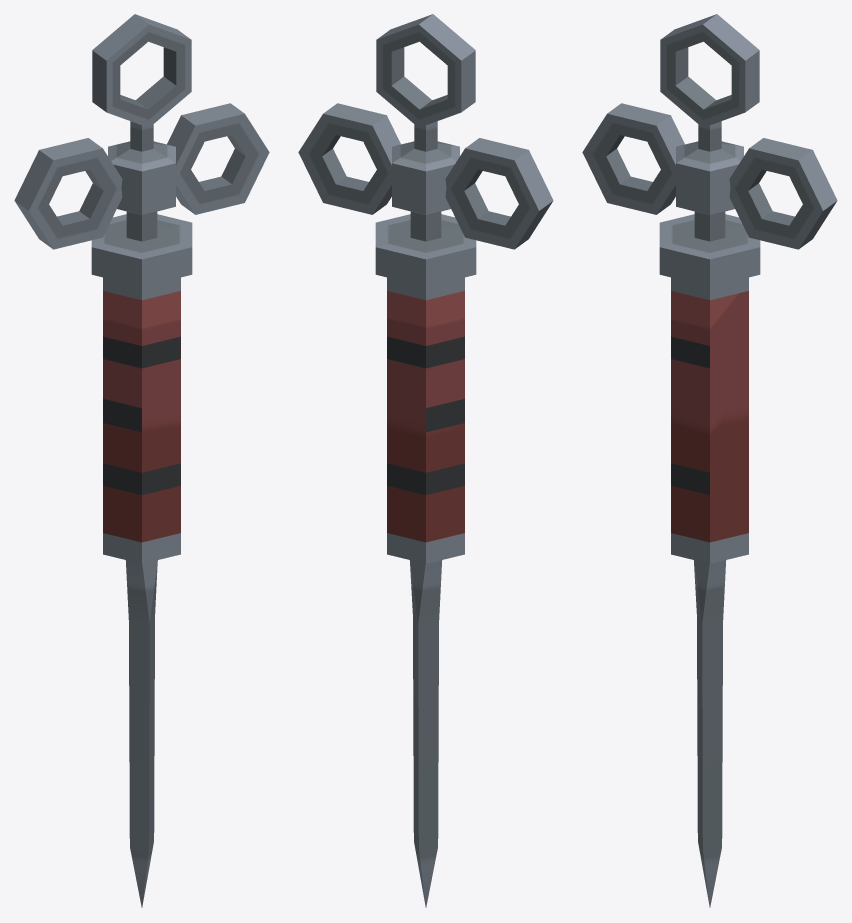
File: SM_Prop_Syringe_01.fbx
3 views of the same model, side by side, from view 1: azimuth 30°, elevation 25°; view 2: azimuth 150°, elevation 25°; view 3: azimuth 330°, elevation 25° (orthographic).
Parts seen in each view (by area): view 1: SM_Prop_Syringe_01; view 2: SM_Prop_Syringe_01; view 3: SM_Prop_Syringe_01.
Boxes of the visible parts, x1,y1,x2,y2 form: SM_Prop_Syringe_01: (14,14,269,907); SM_Prop_Syringe_01: (298,14,553,907); SM_Prop_Syringe_01: (582,14,837,907).
Size of the model in its own units: 18.45 by 65.12 by 6.67.
